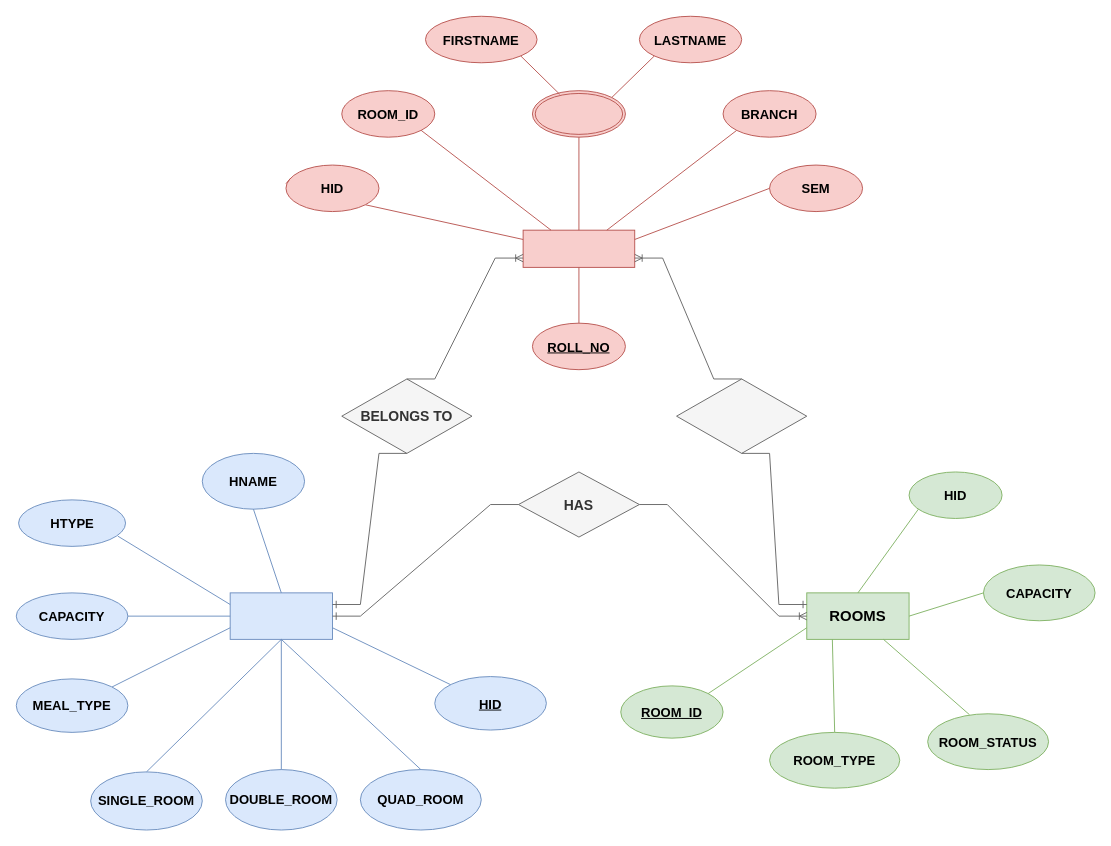
Image size: 1111x846. Some labels were removed from this diagram. Each missing label, with the box of its shape:
HOSTEL: (229, 592, 332, 639)
LIVES IN: (676, 378, 807, 453)
NAME: (531, 90, 625, 137)
STUDENT: (522, 229, 635, 267)
